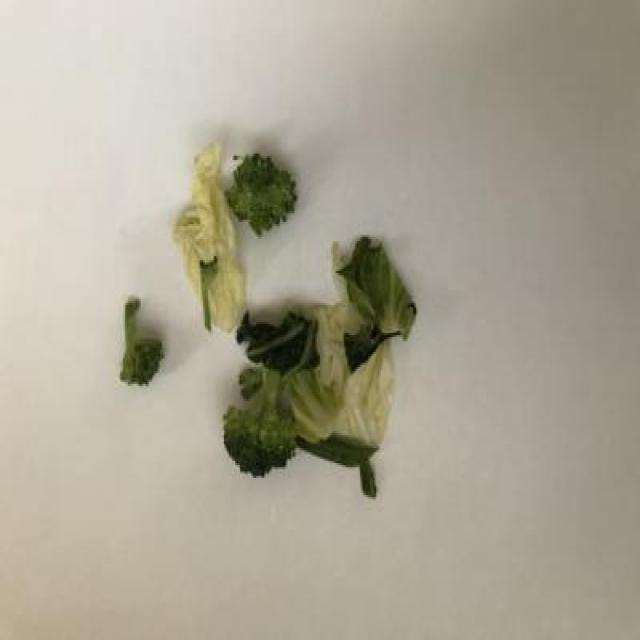compost: (105, 127, 424, 522)
